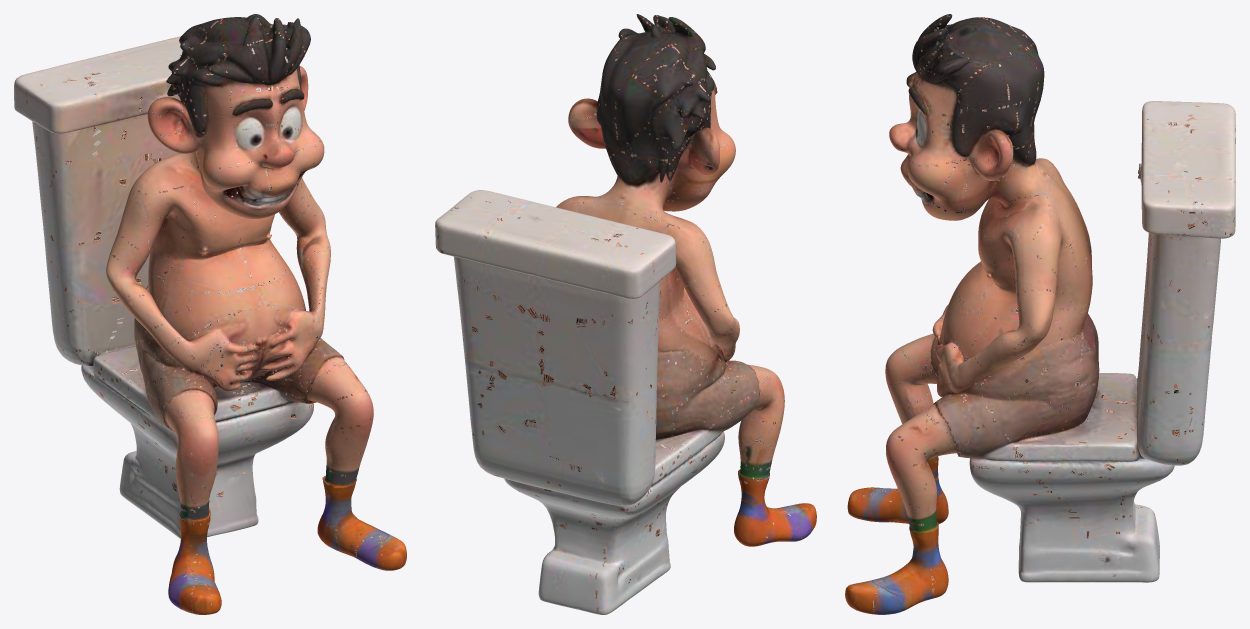
Rendered from Sintoma1Appendix.glb.
3 renders of one model, left to right at view 1: azimuth 30°, elevation 25°; view 2: azimuth 150°, elevation 25°; view 3: azimuth 270°, elevation 25°, orthographic. The views are drawn at different scales.
Parts seen in each view (by area): view 1: Sintoma1Appendix; view 2: Sintoma1Appendix; view 3: Sintoma1Appendix.
Boxes of the visible parts, <box> form: Sintoma1Appendix: <box>14,14,406,614</box>; Sintoma1Appendix: <box>435,14,816,614</box>; Sintoma1Appendix: <box>845,14,1235,614</box>.
Bounding box in the file's own units: 0.8601 × 1.99 × 1.28.
Materials: 1 (1 with a texture image).
